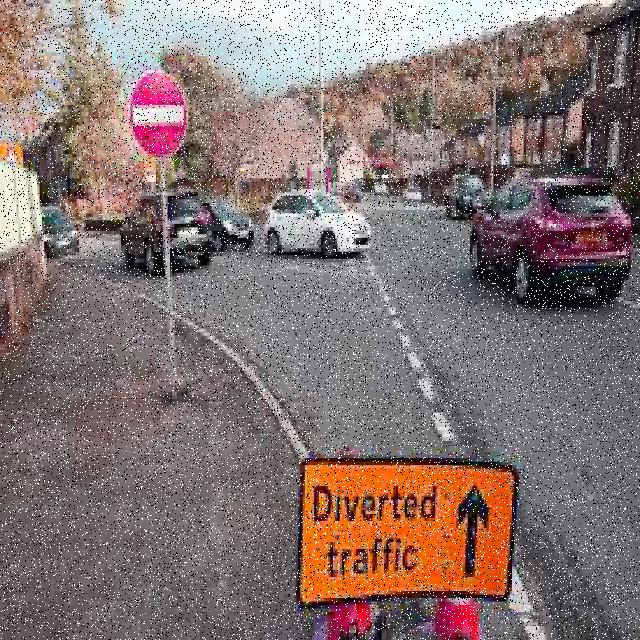no entry: (130, 70, 186, 154)
